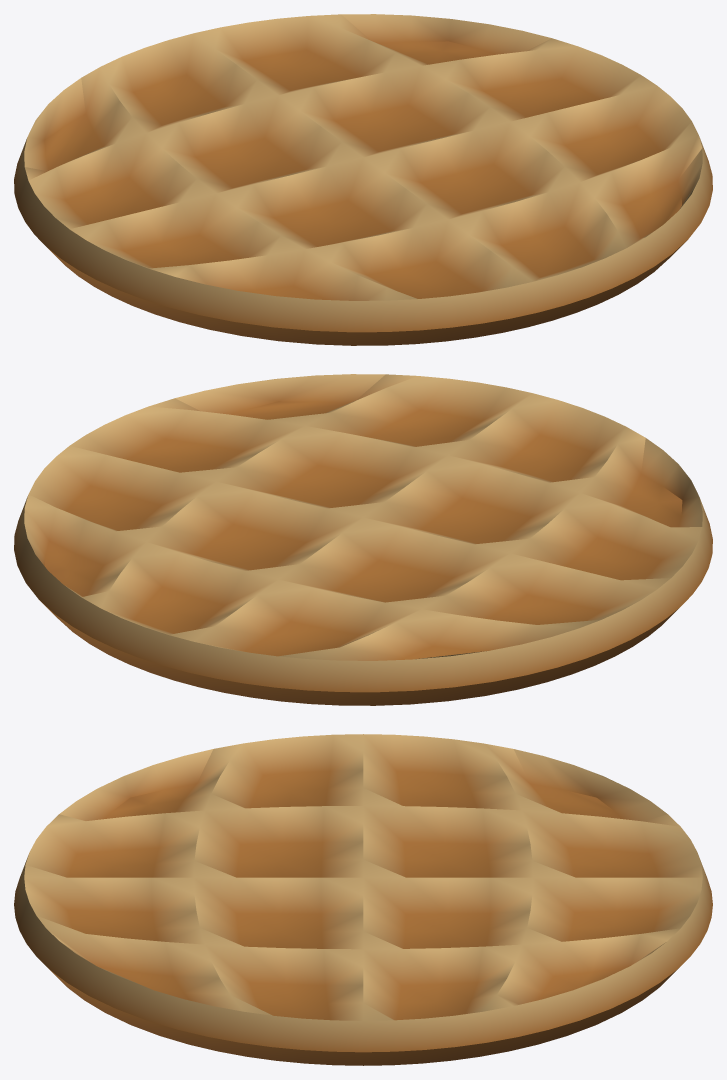
The model's file is waffle.glb.
3 renders of one model, top to bottom at view 1: azimuth 30°, elevation 25°; view 2: azimuth 150°, elevation 25°; view 3: azimuth 270°, elevation 25°, orthographic.
Parts seen in each view (by area): view 1: body; view 2: body; view 3: body.
Boxes of the visible parts, bbox=[...] form: body: bbox=[14, 14, 712, 345]; body: bbox=[14, 374, 712, 705]; body: bbox=[14, 734, 712, 1065].
Bounding box in the file's own units: 1.03 × 0.08 × 1.03.
